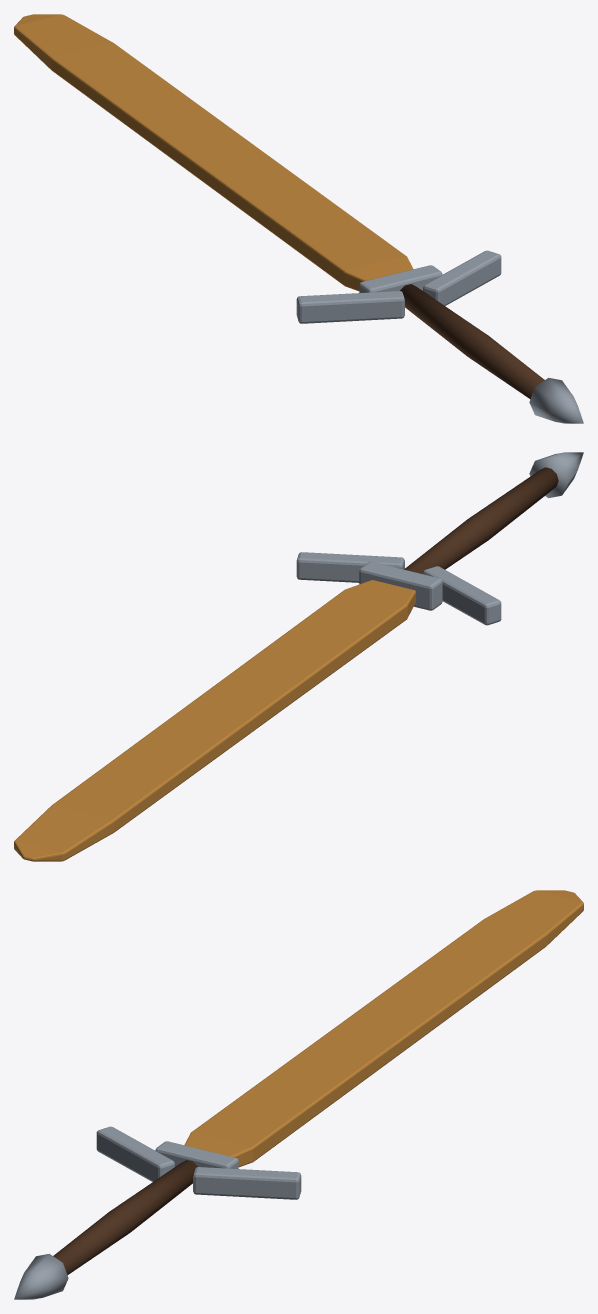
File: greatsword_02_cleaver_bronze.glb
3 renders of one model, top to bottom at view 1: azimuth 30°, elevation 25°; view 2: azimuth 150°, elevation 25°; view 3: azimuth 330°, elevation 25°, orthographic.
Parts seen in each view (by area): view 1: 02_cleaver_bronze_Blade, 02_cleaver_bronze_Guard, 02_cleaver_bronze_Grip, 02_cleaver_bronze_Pommel; view 2: 02_cleaver_bronze_Blade, 02_cleaver_bronze_Guard, 02_cleaver_bronze_Grip, 02_cleaver_bronze_Pommel; view 3: 02_cleaver_bronze_Blade, 02_cleaver_bronze_Guard, 02_cleaver_bronze_Grip, 02_cleaver_bronze_Pommel.
Part boxes in pixels (x1,y1,x2,y2): 02_cleaver_bronze_Blade: (14,14,413,291); 02_cleaver_bronze_Guard: (296,250,501,323); 02_cleaver_bronze_Grip: (400,284,544,399); 02_cleaver_bronze_Pommel: (529,377,583,423); 02_cleaver_bronze_Blade: (14,580,415,861); 02_cleaver_bronze_Guard: (296,552,501,625); 02_cleaver_bronze_Grip: (404,467,558,573); 02_cleaver_bronze_Pommel: (529,452,583,498); 02_cleaver_bronze_Blade: (184,890,583,1167); 02_cleaver_bronze_Guard: (96,1126,301,1199); 02_cleaver_bronze_Grip: (53,1160,197,1275); 02_cleaver_bronze_Pommel: (14,1253,68,1299).
Bounding box in the file's own units: 0.2955 × 0.056 × 1.41.
